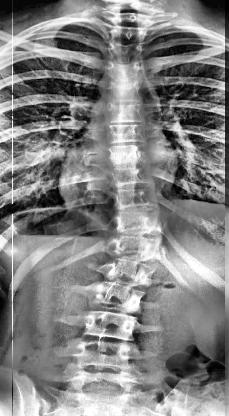Vertebrae: (67, 364, 135, 398), (89, 282, 146, 314), (74, 340, 134, 370), (82, 310, 138, 342), (100, 258, 154, 288), (106, 234, 160, 262), (112, 208, 161, 235), (100, 78, 148, 104), (102, 120, 149, 146), (109, 166, 158, 190), (104, 143, 151, 167), (112, 188, 162, 210), (103, 100, 148, 122), (104, 59, 145, 79), (106, 40, 146, 60), (108, 26, 150, 44)
